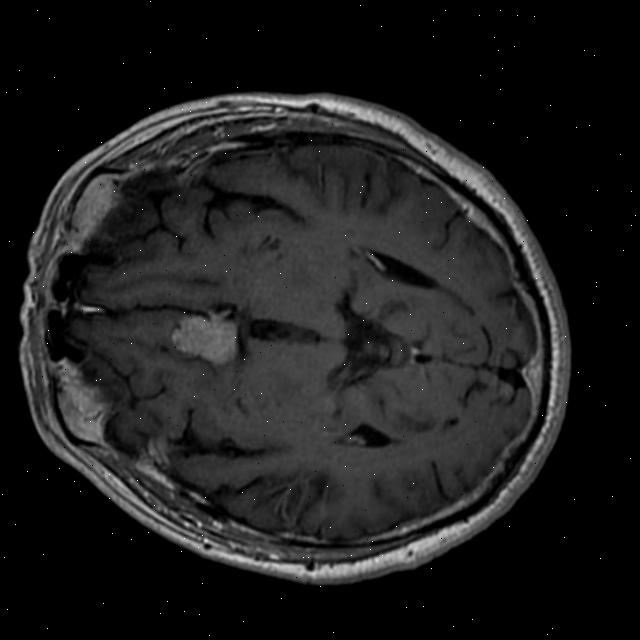Pituitary: (166, 296, 245, 370)
